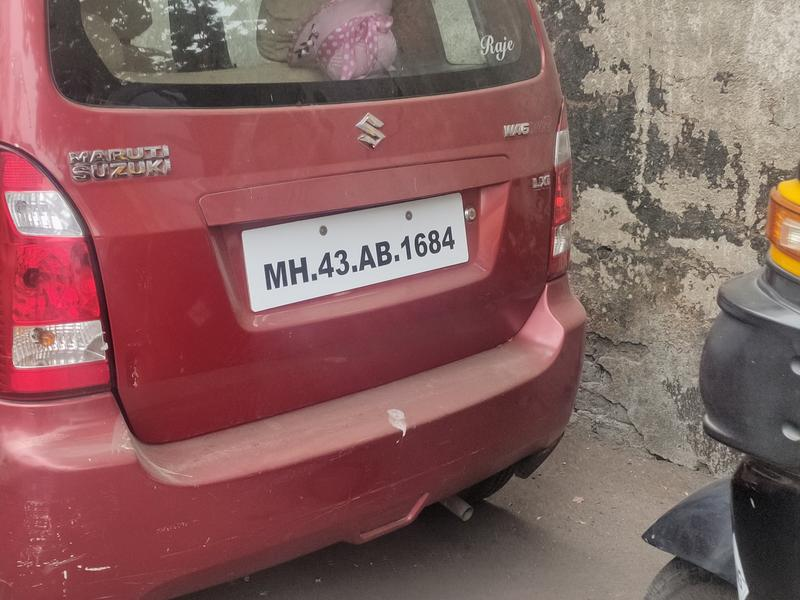license_plate: (229, 188, 489, 294)
